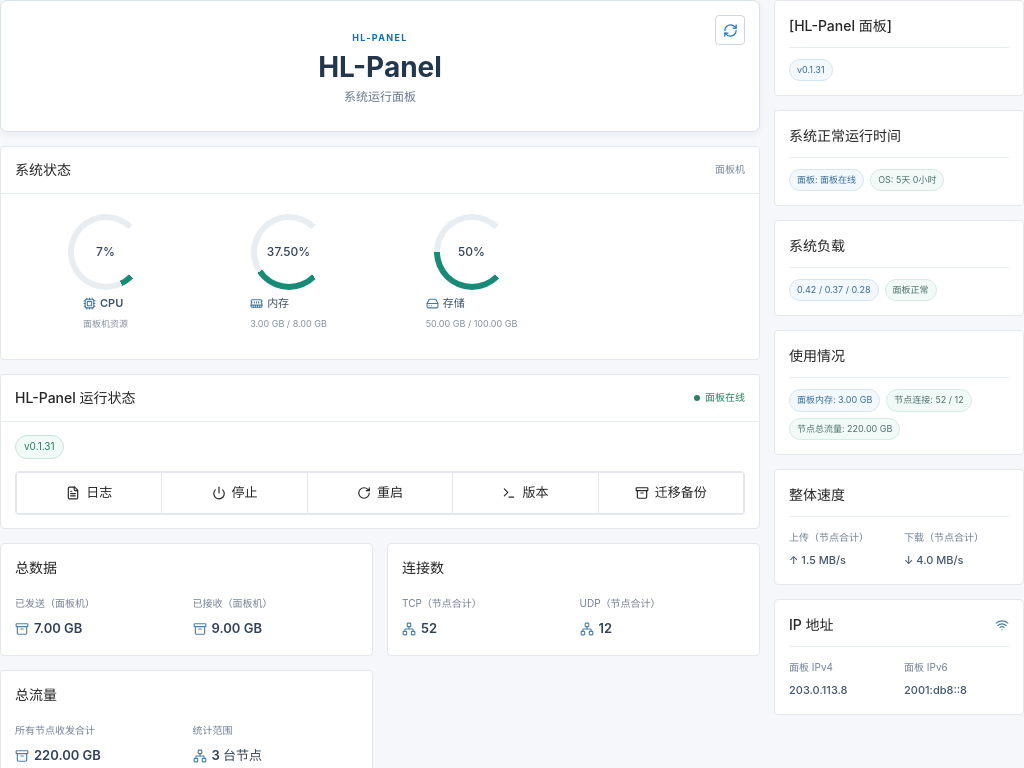
Test: OverviewPage › opens logs and versions as dialogs and removes the old log card
What coordinates should you click on to do the following:
click the button "日志"
I would click on:
 (89, 493)
Its box is [17,473,161,513].
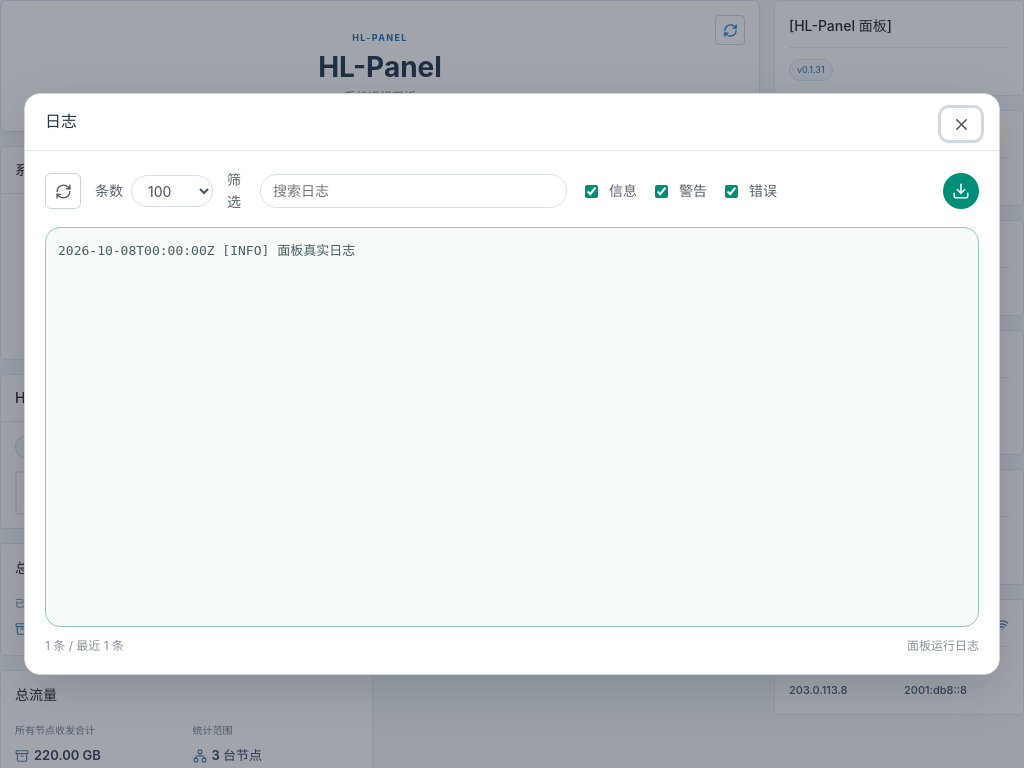
Now the text "2026-10-08T00:00:00Z [INFO] 面板真实日志" is shown, box [45,227,979,627]
What coordinates should you click on to do the following:
click the button named "关闭对话框"
I would click on:
 (961, 124)
Its box is [943,110,979,138].
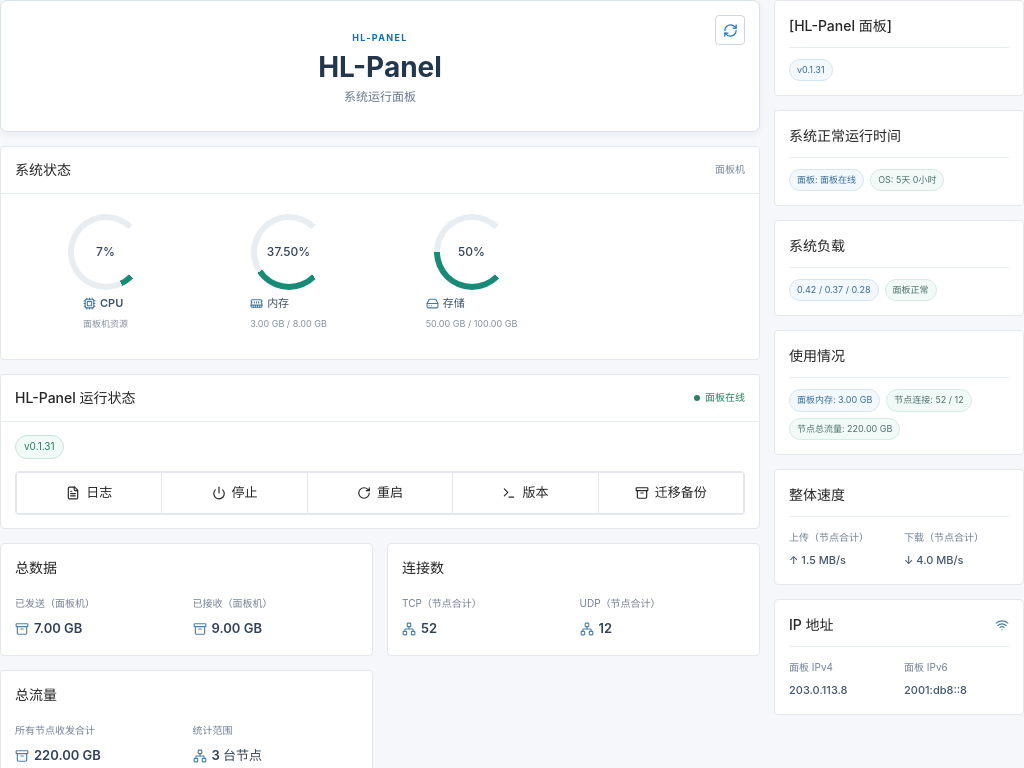
What coordinates should you click on to do the following:
click the button "版本"
I would click on:
 (525, 493)
Its box is [453,473,598,513].
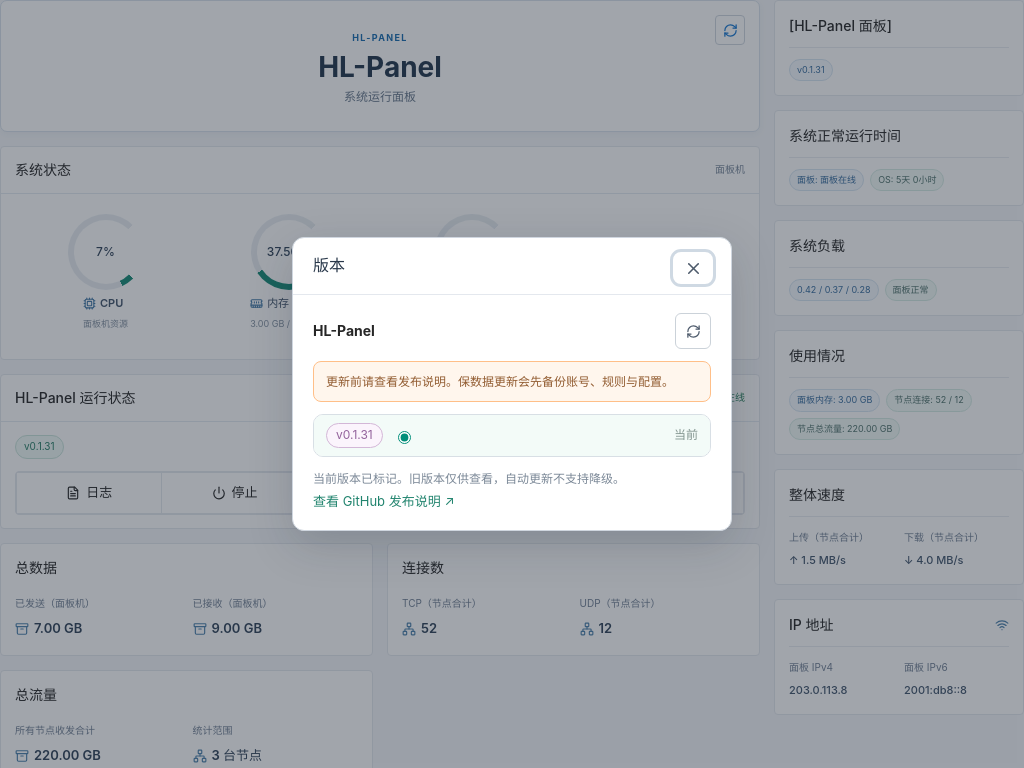
Now the radio button labelled "v0.1.31 当前" is checked, box [398,431,411,444]
